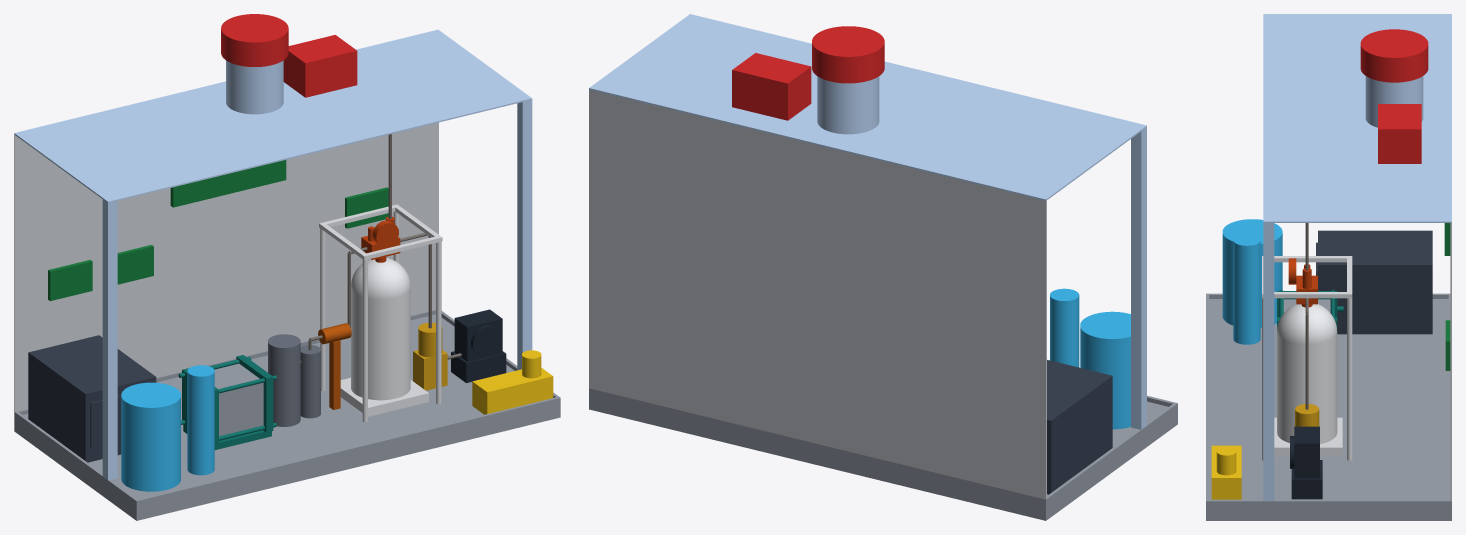
3 renders of one model, left to right at view 1: azimuth 30°, elevation 25°; view 2: azimuth 150°, elevation 25°; view 3: azimuth 270°, elevation 25°, orthographic. The views are drawn at different scales.
Parts seen in each view (by area): view 1: Instrument back panel, Canopy hood, duct and posts, Bench deck and extrusion frame, Hydrogen buffer tank, 2 L, with guard, DI water reservoir and deionizer, Bench DC power supply, 0 to 30 V, 10 A, H2Guard sensor, controller and fan, Meters, logger and display, Gas and water separator, drier, PEM fuel cell, 12 W class, Electronic load and lamp, Electrolyzer cells (plates and MEAs) (+5 smaller); view 2: Instrument back panel, Canopy hood, duct and posts, Bench deck and extrusion frame, H2Guard sensor, controller and fan, Bench DC power supply, 0 to 30 V, 10 A, DI water reservoir and deionizer; view 3: Canopy hood, duct and posts, Bench deck and extrusion frame, Bench DC power supply, 0 to 30 V, 10 A, Hydrogen buffer tank, 2 L, with guard, H2Guard sensor, controller and fan, DI water reservoir and deionizer, PEM fuel cell, 12 W class, Electronic load and lamp, Tank manifold: sensors, relief, gauge, Gas lines, 6 mm, Instrument back panel, Regulator and solenoid valve (+2 smaller).
Boxes of the visible parts, bbox=[...] form: Instrument back panel: bbox=[14, 122, 438, 411]; Canopy hood, duct and posts: bbox=[14, 29, 532, 480]; Bench deck and extrusion frame: bbox=[14, 309, 560, 520]; Hydrogen buffer tank, 2 L, with guard: bbox=[319, 204, 442, 422]; DI water reservoir and deionizer: bbox=[121, 365, 214, 491]; Bench DC power supply, 0 to 30 V, 10 A: bbox=[28, 335, 156, 462]; H2Guard sensor, controller and fan: bbox=[221, 14, 357, 97]; Meters, logger and display: bbox=[48, 160, 388, 301]; Gas and water separator, drier: bbox=[268, 334, 320, 426]; PEM fuel cell, 12 W class: bbox=[451, 309, 506, 382]; Electronic load and lamp: bbox=[472, 350, 553, 414]; Electrolyzer cells (plates and MEAs): bbox=[214, 363, 263, 436]; Instrument back panel: bbox=[589, 89, 1046, 499]; Canopy hood, duct and posts: bbox=[589, 14, 1146, 429]; Bench deck and extrusion frame: bbox=[589, 388, 1177, 520]; H2Guard sensor, controller and fan: bbox=[732, 26, 884, 120]; Bench DC power supply, 0 to 30 V, 10 A: bbox=[1047, 360, 1112, 494]; DI water reservoir and deionizer: bbox=[1050, 288, 1130, 429]; Canopy hood, duct and posts: bbox=[1263, 14, 1451, 501]; Bench deck and extrusion frame: bbox=[1206, 293, 1451, 520]; Bench DC power supply, 0 to 30 V, 10 A: bbox=[1316, 230, 1432, 334]; Hydrogen buffer tank, 2 L, with guard: bbox=[1262, 256, 1352, 460]; H2Guard sensor, controller and fan: bbox=[1360, 29, 1428, 163]; DI water reservoir and deionizer: bbox=[1222, 219, 1282, 344]; PEM fuel cell, 12 W class: bbox=[1290, 426, 1322, 499]; Electronic load and lamp: bbox=[1211, 445, 1241, 499]; Tank manifold: sensors, relief, gauge: bbox=[1288, 258, 1317, 307]; Gas lines, 6 mm: bbox=[1305, 223, 1308, 409]; Instrument back panel: bbox=[1450, 223, 1451, 501]; Regulator and solenoid valve: bbox=[1295, 404, 1319, 426].
Bounding box in the file's own units: 0.9 × 0.755 × 0.45.
